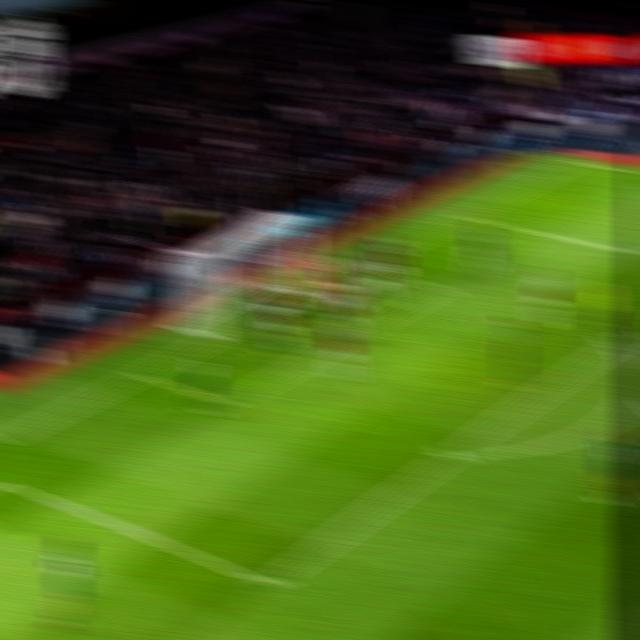bigarea_bottom_inner: (250, 566, 289, 600)
bigarea_top_outter: (451, 205, 482, 224)
bottom_arc_area_intersection: (436, 440, 470, 467)
corner: (560, 153, 594, 170)
smallarea_bottom_inner: (211, 387, 244, 416)
smallarea_bottom_outter: (125, 360, 160, 385)
smallarea_top_inner: (424, 277, 457, 297)
smallarea_top_outter: (349, 257, 379, 275)
top_arc_area_intersection: (599, 331, 632, 354)
